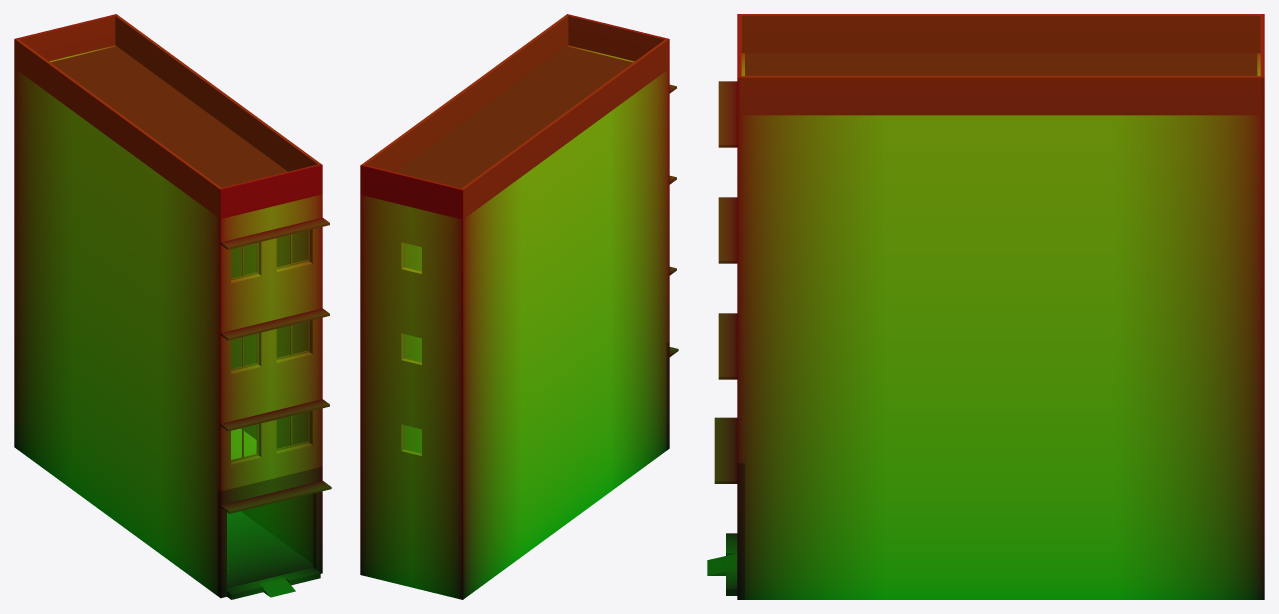
File: nha_ong_homestay_4x14.glb
3 views of the same model, side by side, from view 1: azimuth 30°, elevation 25°; view 2: azimuth 150°, elevation 25°; view 3: azimuth 270°, elevation 25° (orthographic). The views are drawn at different scales.
Visible parts, largest first — view 1: nha_ong_homestay_4x14; view 2: nha_ong_homestay_4x14; view 3: nha_ong_homestay_4x14.
Boxes of the visible parts, x1,y1,x2,y2 form: nha_ong_homestay_4x14: [14, 14, 331, 599]; nha_ong_homestay_4x14: [360, 14, 678, 599]; nha_ong_homestay_4x14: [707, 14, 1264, 599].
Size of what is drawn, in the model's own units: 4 by 15.3 by 14.8.
